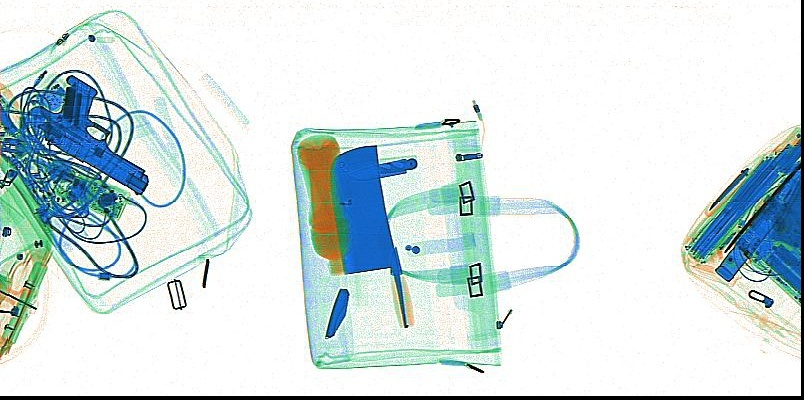knife: (328, 144, 414, 329), (722, 161, 799, 254), (703, 165, 755, 216), (346, 156, 419, 181), (322, 286, 350, 340)
zippooil: (712, 206, 779, 282)
